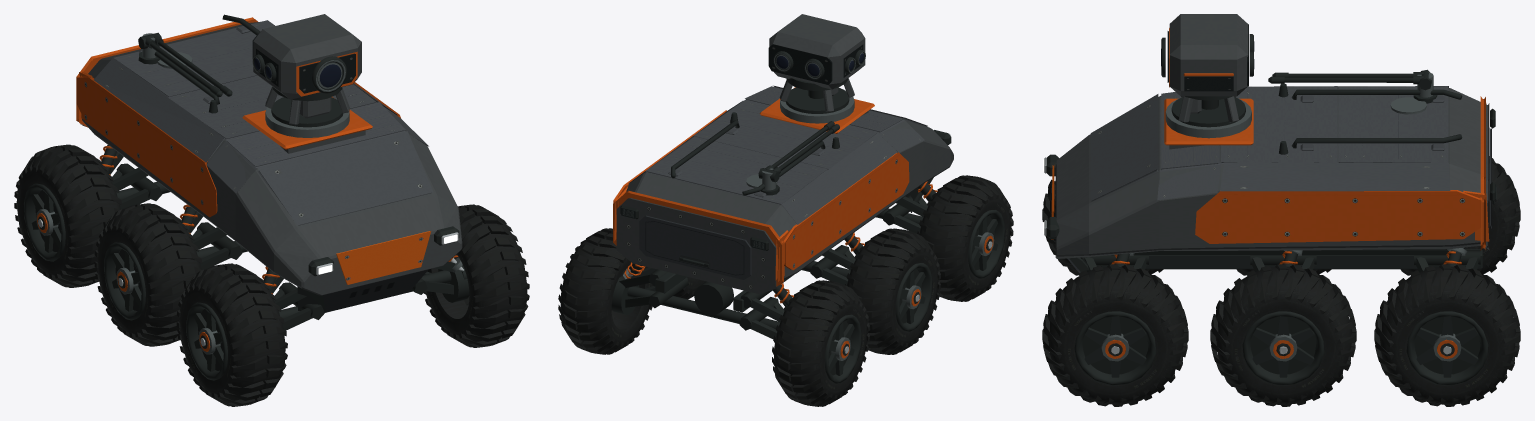
File: enemy_drone.glb
3 renders of one model, left to right at view 1: azimuth 30°, elevation 25°; view 2: azimuth 150°, elevation 25°; view 3: azimuth 270°, elevation 25°, orthographic. The views are drawn at different scales.
Visible parts, largest first — view 1: Chassis | faceted armor, service panels and belly, Wheel | port front, Wheel | port middle, Wheel | port rear, Wheel | starboard front, Turret | faceted multi-camera optical head, Turret | pan bearing and mounting cradle, Suspension | port rear, Suspension | port middle, Equipment | carry rails, receivers and antenna hinge, Suspension | port front, Antenna | folding dual radio mast (+3 smaller); view 2: Chassis | faceted armor, service panels and belly, Wheel | port rear, Wheel | port front, Wheel | port middle, Wheel | starboard rear, Turret | faceted multi-camera optical head, Turret | pan bearing and mounting cradle, Drivetrain | protected shafts and lower rails, Equipment | carry rails, receivers and antenna hinge, Suspension | port rear, Suspension | starboard rear, Suspension | port middle (+3 smaller); view 3: Chassis | faceted armor, service panels and belly, Wheel | starboard front, Wheel | starboard middle, Wheel | starboard rear, Turret | faceted multi-camera optical head, Turret | pan bearing and mounting cradle, Equipment | carry rails, receivers and antenna hinge, Drivetrain | protected shafts and lower rails, Wheel | port rear, Antenna | folding dual radio mast, Suspension | starboard rear, Suspension | starboard middle (+3 smaller).
Part boxes in pixels (<box>): Chassis | faceted armor, service panels and belly: <box>76,17,462,312</box>; Wheel | port front: <box>176,263,287,406</box>; Wheel | port middle: <box>94,203,202,346</box>; Wheel | port rear: <box>14,144,121,287</box>; Wheel | starboard front: <box>423,204,529,347</box>; Turret | faceted multi-camera optical head: <box>252,14,361,99</box>; Turret | pan bearing and mounting cradle: <box>242,86,372,153</box>; Suspension | port rear: <box>99,145,162,209</box>; Suspension | port middle: <box>180,204,242,269</box>; Equipment | carry rails, receivers and antenna hinge: <box>138,14,260,113</box>; Suspension | port front: <box>262,266,324,330</box>; Antenna | folding dual radio mast: <box>145,35,232,97</box>; Chassis | faceted armor, service panels and belly: <box>613,85,953,294</box>; Wheel | port rear: <box>772,280,870,406</box>; Wheel | port front: <box>917,175,1013,301</box>; Wheel | port middle: <box>845,228,940,354</box>; Wheel | starboard rear: <box>558,228,653,354</box>; Turret | faceted multi-camera optical head: <box>768,14,865,89</box>; Turret | pan bearing and mounting cradle: <box>759,78,874,133</box>; Drivetrain | protected shafts and lower rails: <box>627,208,923,328</box>; Equipment | carry rails, receivers and antenna hinge: <box>668,112,839,197</box>; Suspension | port rear: <box>739,283,793,338</box>; Suspension | starboard rear: <box>619,262,688,308</box>; Suspension | port middle: <box>810,232,864,284</box>; Chassis | faceted armor, service panels and belly: <box>1051,86,1496,272</box>; Wheel | starboard front: <box>1042,264,1188,406</box>; Wheel | starboard middle: <box>1210,264,1356,406</box>; Wheel | starboard rear: <box>1374,264,1520,406</box>; Turret | faceted multi-camera optical head: <box>1161,14,1254,96</box>; Turret | pan bearing and mounting cradle: <box>1164,96,1253,149</box>; Equipment | carry rails, receivers and antenna hinge: <box>1278,69,1462,154</box>; Drivetrain | protected shafts and lower rails: <box>1101,249,1482,269</box>; Wheel | port rear: <box>1400,156,1520,275</box>; Antenna | folding dual radio mast: <box>1268,72,1423,84</box>; Suspension | starboard rear: <box>1414,247,1480,272</box>; Suspension | starboard middle: <box>1250,250,1316,271</box>.
Size of the model in its own units: 2.67 by 2.58 by 3.59.
Materials: 19 (13 with a texture image).
